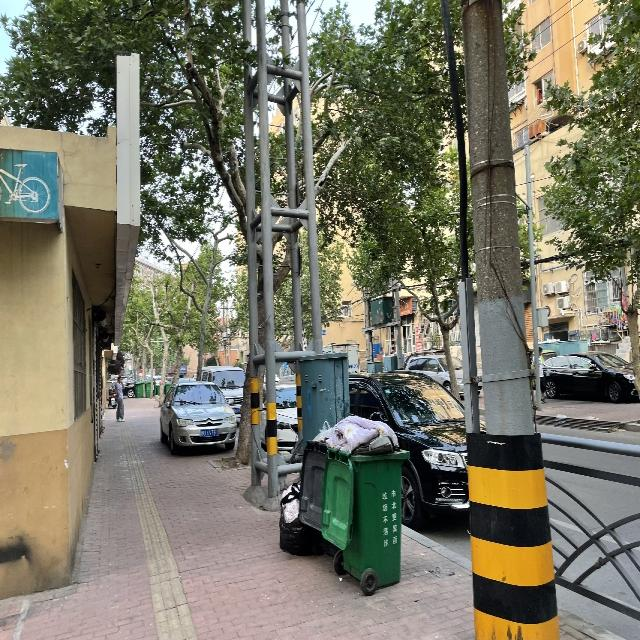garbage: (278, 480, 326, 555)
garbage_bin: (134, 381, 143, 396), (145, 381, 150, 397)
overflow: (320, 415, 409, 589)
